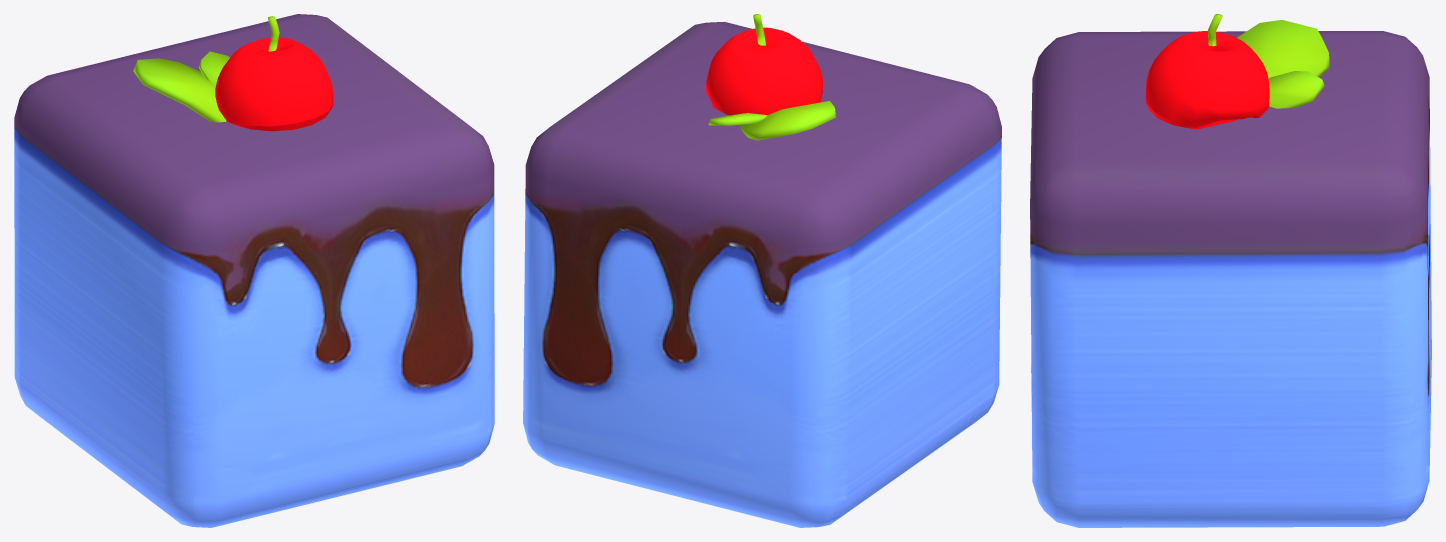
Rendered from blue_cake.glb.
3 views of the same model, side by side, from view 1: azimuth 30°, elevation 25°; view 2: azimuth 150°, elevation 25°; view 3: azimuth 270°, elevation 25° (orthographic). The views are drawn at different scales.
Parts seen in each view (by area): view 1: blue_cake; view 2: blue_cake; view 3: blue_cake.
Part boxes in pixels (x1=…): blue_cake: x1=14, y1=14, x2=494, y2=527; blue_cake: x1=523, y1=14, x2=1001, y2=527; blue_cake: x1=1030, y1=14, x2=1431, y2=527.
Size of the model in its own units: 0.4304 by 0.5348 by 0.4309.
1 material, 1 textured.
